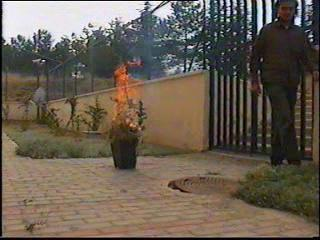fire: (111, 52, 144, 121)
